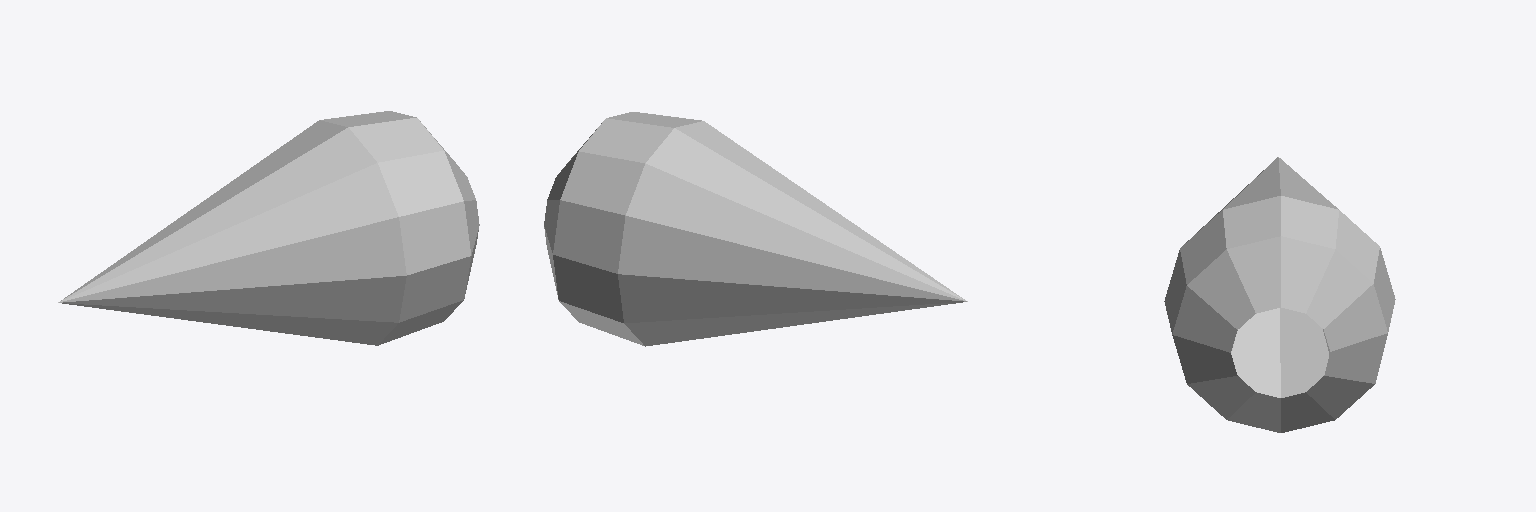
File: fuego.obj
3 views of the same model, side by side, from view 1: azimuth 30°, elevation 25°; view 2: azimuth 150°, elevation 25°; view 3: azimuth 270°, elevation 25° (orthographic).
Visible parts, largest first — view 1: Cone; view 2: Cone; view 3: Cone.
Part boxes in pixels (x1,y1,x2,y2): Cone: (58, 111, 479, 345); Cone: (544, 112, 967, 346); Cone: (1164, 157, 1395, 432).
Size of the model in its own units: 2.37 by 1.2 by 1.19.